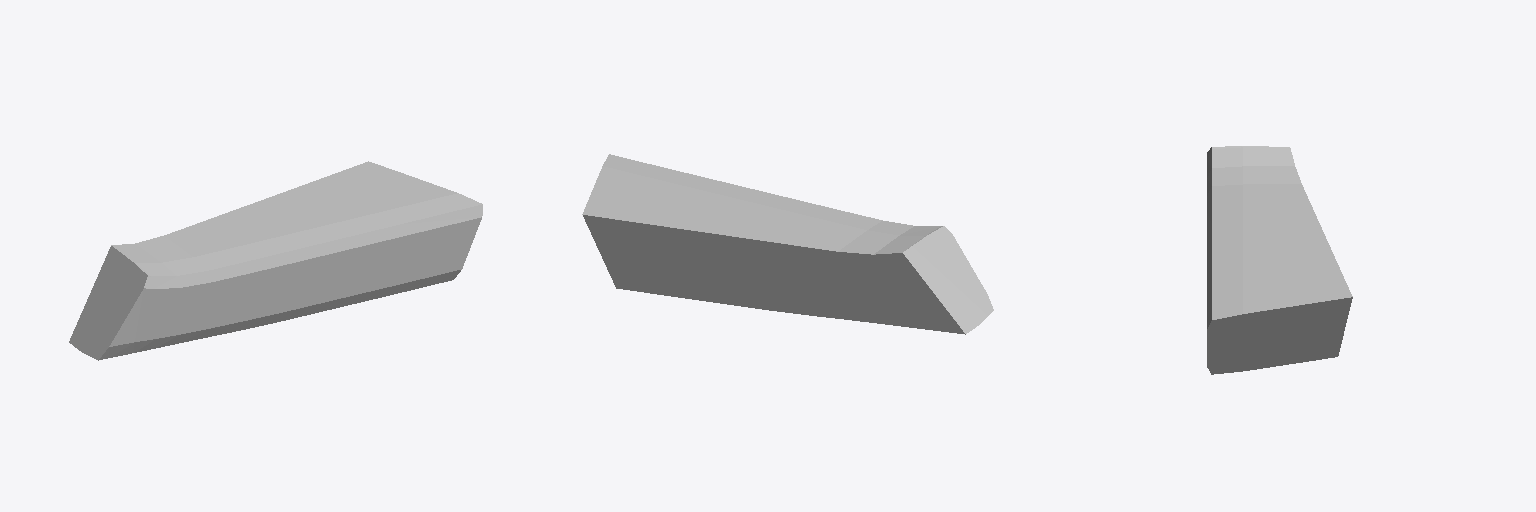
The model's file is torii_broken_035.obj.
3 renders of one model, left to right at view 1: azimuth 30°, elevation 25°; view 2: azimuth 150°, elevation 25°; view 3: azimuth 270°, elevation 25°, orthographic.
Parts seen in each view (by area): view 1: 鳥居.001_cell.035_鳥居.001_cell.045; view 2: 鳥居.001_cell.035_鳥居.001_cell.045; view 3: 鳥居.001_cell.035_鳥居.001_cell.045.
Boxes of the visible parts, <box> form: 鳥居.001_cell.035_鳥居.001_cell.045: <box>69,161,482,360</box>; 鳥居.001_cell.035_鳥居.001_cell.045: <box>582,154,993,334</box>; 鳥居.001_cell.035_鳥居.001_cell.045: <box>1207,146,1352,374</box>.
Size of the model in its own units: 0.891 by 0.1815 by 0.2913.